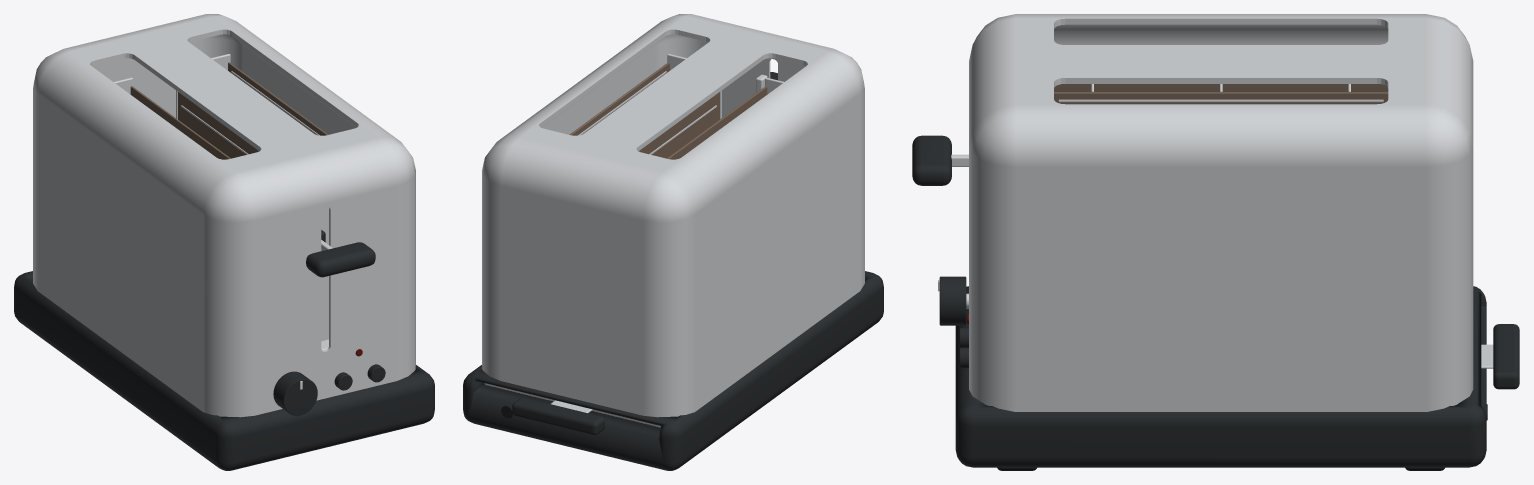
The model's file is toaster.glb.
3 views of the same model, side by side, from view 1: azimuth 30°, elevation 25°; view 2: azimuth 150°, elevation 25°; view 3: azimuth 270°, elevation 25° (orthographic). The views are drawn at different scales.
Parts seen in each view (by area): view 1: Continuous chrome shell, Moulded base, Mica heating panel 0.018, Lever thumb pad, Browning dial, Mica heating panel -0.018, Mica heating panel 0.056, Bread cage end plate (0.037, -0.092); view 2: Continuous chrome shell, Moulded base, Crumb tray rear grip, Mica heating panel 0.018, Mica heating panel -0.018, Mica heating panel 0.056; view 3: Continuous chrome shell, Moulded base, Mica heating panel -0.018, Mica heating panel -0.056, Lever thumb pad, Crumb tray rear grip, Browning dial, Cold heater ribbon (-0.018, 0.179).
Part boxes in pixels (x1,y1,x2,y2): Continuous chrome shell: [33, 14, 415, 417]; Moulded base: [14, 271, 434, 470]; Mica heating panel 0.018: [178, 92, 259, 158]; Lever thumb pad: [306, 242, 375, 277]; Browning dial: [273, 371, 317, 415]; Mica heating panel -0.018: [130, 86, 230, 159]; Mica heating panel 0.056: [228, 62, 328, 135]; Bread cage end plate (0.037, -0.092): [321, 206, 328, 341]; Continuous chrome shell: [482, 14, 864, 417]; Moulded base: [463, 271, 883, 470]; Crumb tray rear grip: [512, 397, 604, 435]; Mica heating panel 0.018: [638, 92, 719, 158]; Mica heating panel -0.018: [667, 86, 767, 159]; Mica heating panel 0.056: [569, 62, 669, 135]; Continuous chrome shell: [969, 14, 1473, 411]; Moulded base: [955, 286, 1486, 467]; Mica heating panel -0.018: [1054, 92, 1388, 104]; Mica heating panel -0.056: [1054, 84, 1388, 91]; Lever thumb pad: [912, 135, 951, 185]; Crumb tray rear grip: [1493, 324, 1519, 389]; Browning dial: [939, 276, 966, 325]; Cold heater ribbon (-0.018, 0.179): [1058, 99, 1383, 102].
Size of the model in its own units: 0.165 by 0.21 by 0.3215.
